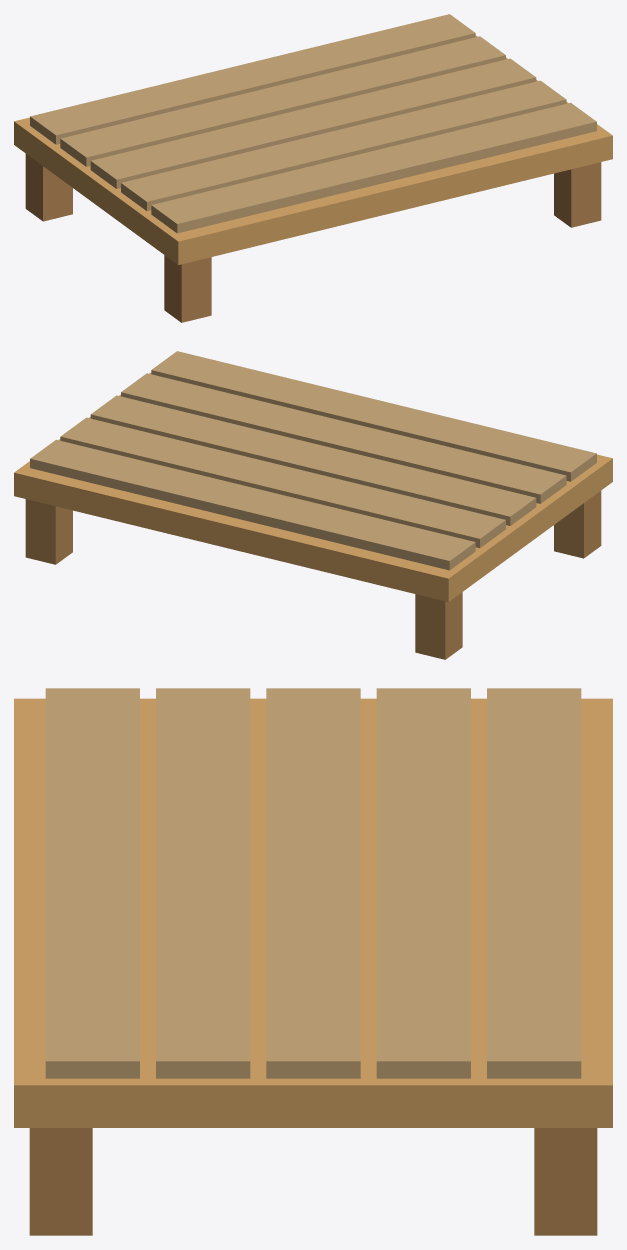
The model's file is huaiyang_tool_tofu_board.glb.
3 renders of one model, top to bottom at view 1: azimuth 30°, elevation 25°; view 2: azimuth 150°, elevation 25°; view 3: azimuth 270°, elevation 25°, orthographic. The views are drawn at different scales.
Size of the model in its own units: 0.58 by 0.122 by 0.38.
